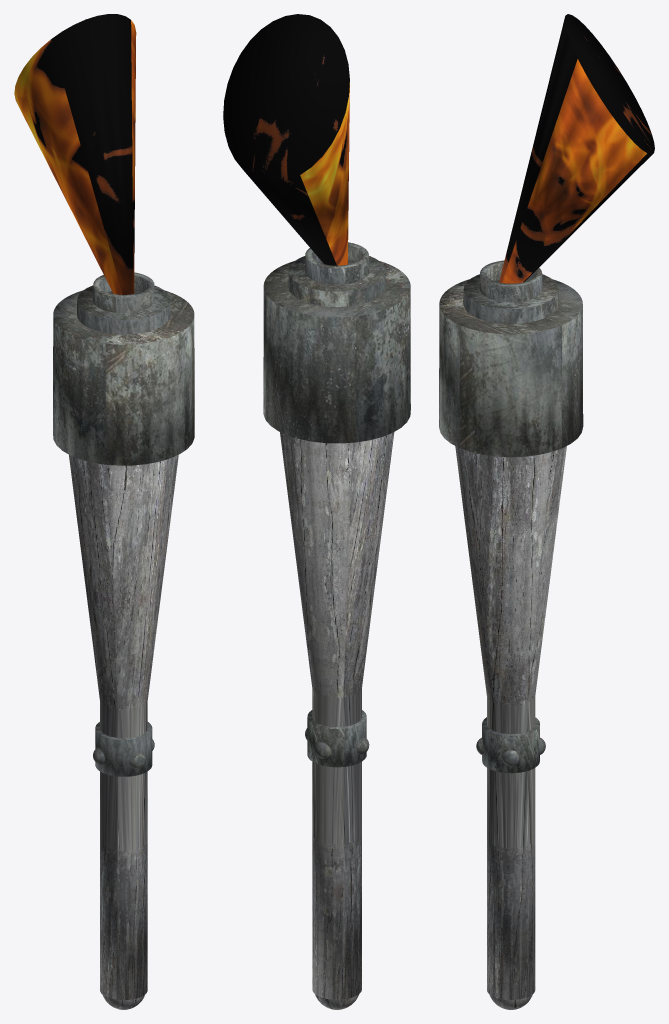
Rendered from torch.obj.
The picture shows the model from 3 angles, left to right: view 1: azimuth 30°, elevation 25°; view 2: azimuth 150°, elevation 25°; view 3: azimuth 270°, elevation 25°; orthographic projection. The views are drawn at different scales.
Visible parts, largest first — view 1: Wood, Metal, Flame; view 2: Wood, Metal, Flame; view 3: Wood, Metal, Flame.
Boxes of the visible parts, x1=… form: Wood: x1=69, y1=455, x2=178, y2=1009; Metal: x1=53, y1=272, x2=194, y2=776; Flame: x1=14, y1=14, x2=136, y2=294; Wood: x1=280, y1=432, x2=394, y2=1009; Metal: x1=263, y1=242, x2=410, y2=767; Flame: x1=223, y1=14, x2=349, y2=265; Wood: x1=455, y1=446, x2=566, y2=1009; Metal: x1=439, y1=260, x2=583, y2=773; Flame: x1=499, y1=14, x2=654, y2=283.
Bounding box in the file's own units: 2.13 × 16.08 × 3.19.
3 materials, 3 textured.
